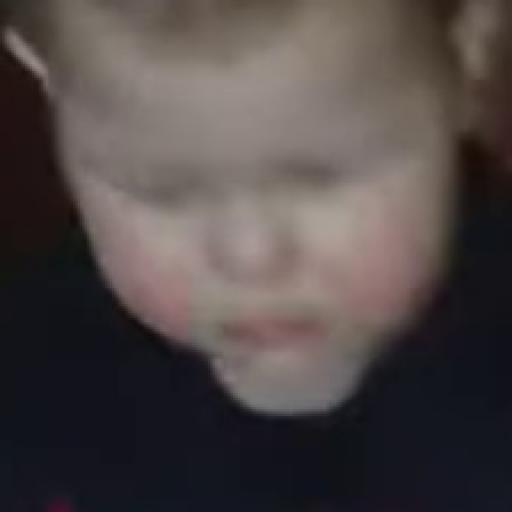Autism: (94, 8, 420, 443)
